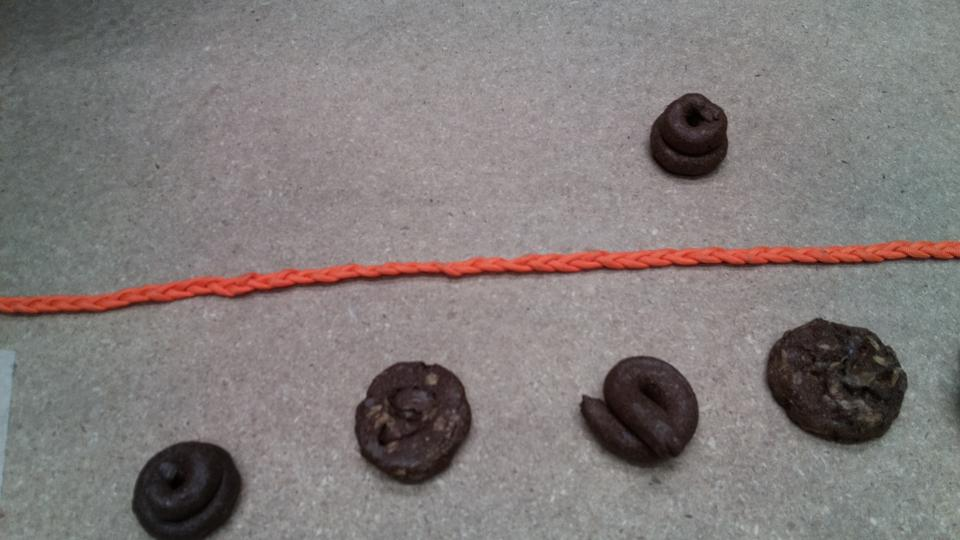poop: (765, 313, 912, 450), (355, 356, 475, 490), (579, 346, 705, 466), (127, 438, 247, 535), (645, 88, 735, 188)
rope: (2, 272, 284, 330), (496, 243, 960, 276), (267, 259, 520, 301)
